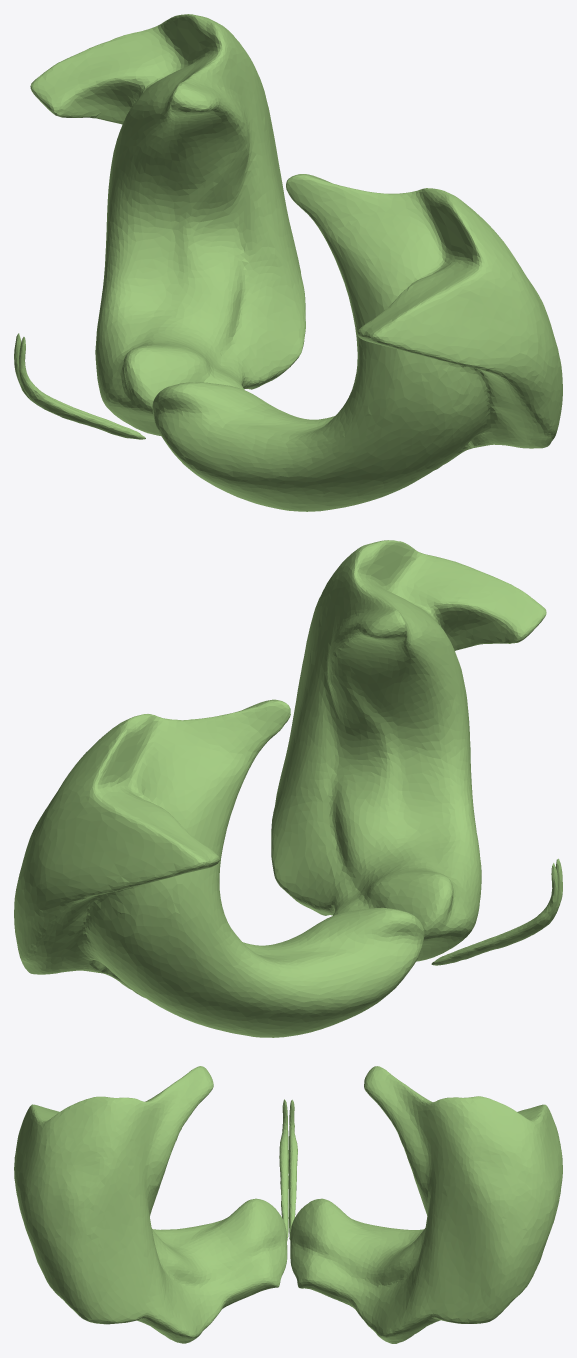
3 views of the same model, one above another, from view 1: azimuth 30°, elevation 25°; view 2: azimuth 150°, elevation 25°; view 3: azimuth 270°, elevation 25° (orthographic). The views are drawn at different scales.
Parts seen in each view (by area): view 1: 1089.obj; view 2: 1089.obj; view 3: 1089.obj.
Boxes of the visible parts, box(x1,y1,x2,y2) form: 1089.obj: box(14, 14, 562, 511); 1089.obj: box(14, 540, 562, 1037); 1089.obj: box(14, 1066, 562, 1343).
Bounding box in the file's own units: 6345 × 5058 × 10130.
